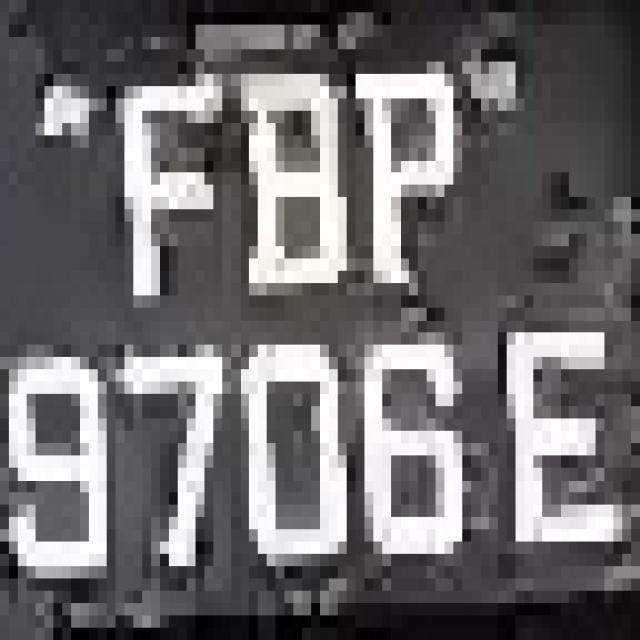0: (231, 295, 356, 554)
6: (338, 308, 480, 590)
7: (115, 320, 249, 566)
9: (0, 332, 107, 603)
B: (222, 37, 364, 320)
E: (480, 283, 631, 579)
F: (98, 49, 222, 357)
P: (356, 37, 498, 332)
